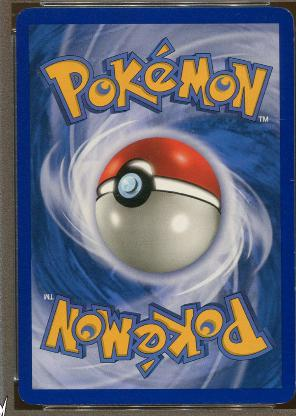Card: (15, 7, 293, 405)
Corner Wear: (272, 374, 293, 404), (17, 386, 43, 405), (16, 6, 30, 16), (280, 6, 291, 16)
Edge Wear: (66, 402, 221, 404), (233, 400, 283, 404), (291, 227, 293, 305), (289, 22, 293, 50)
Scratch: (287, 176, 294, 184)
